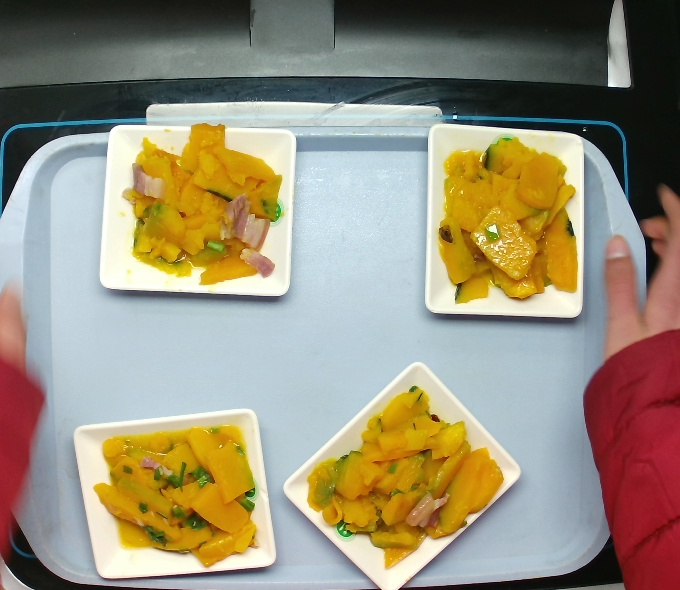wcq-NanGuaChaoLaRou: (301, 380, 509, 575), (114, 119, 286, 289), (431, 132, 584, 308), (87, 421, 265, 572)
